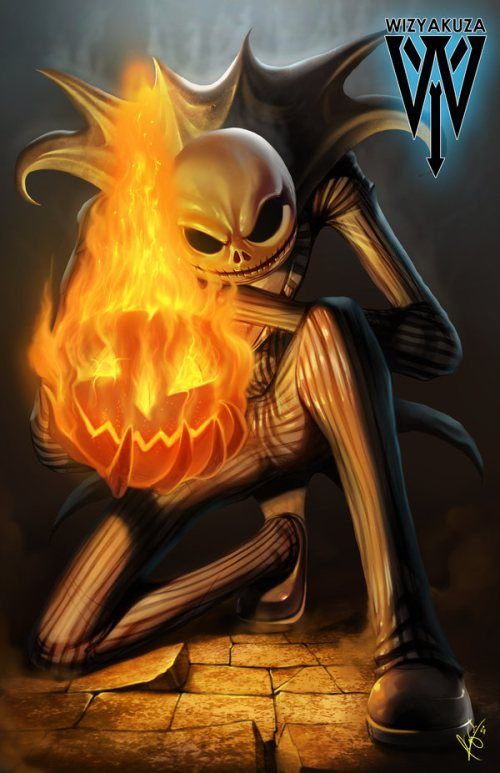Jack Skellington: (13, 25, 488, 750)
